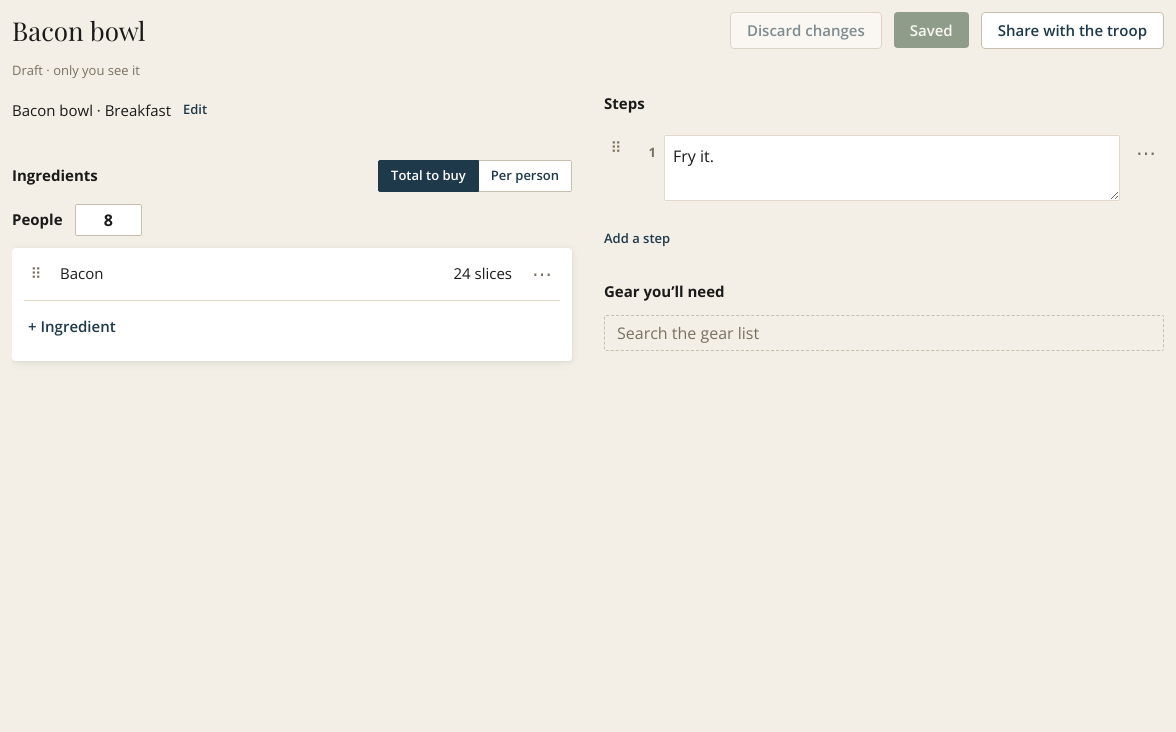
Scenario: RecipeEditor steps and ingredients › AddingAnIngredient_MakesTheRecipeDirty
Click the button "+ Ingredient": (72, 326) [24,304,120,348]
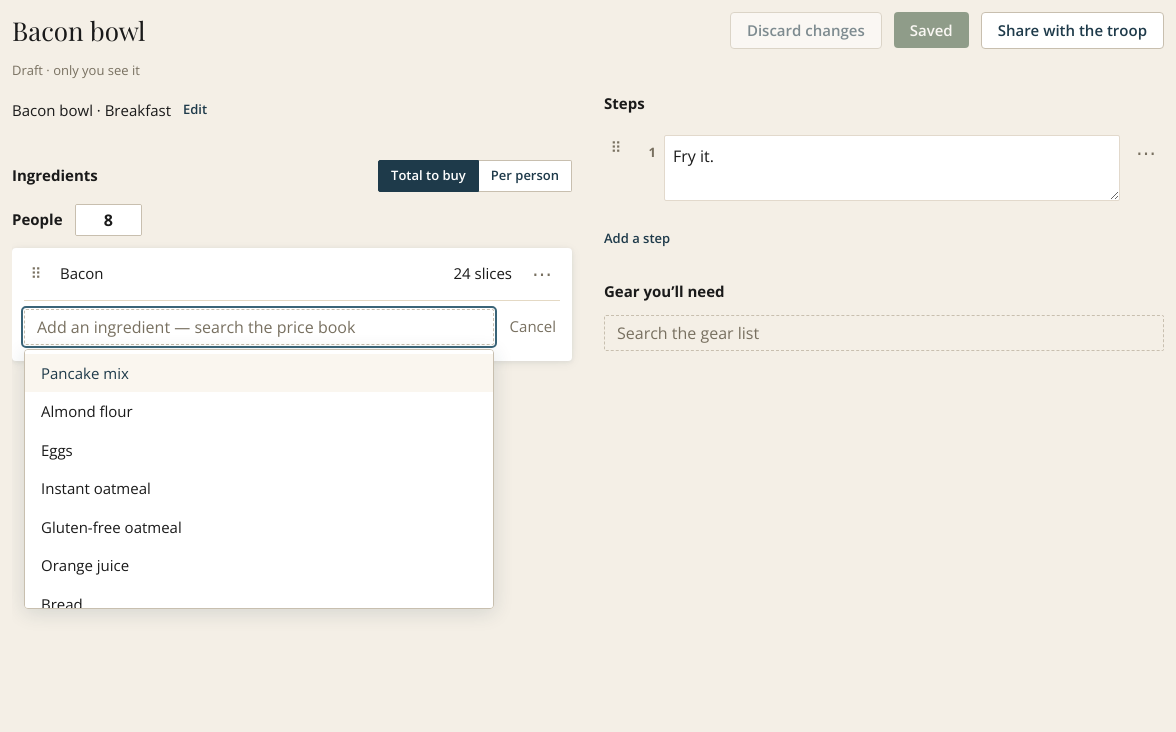
In the dropdown labelled "Add an ingredient": (259, 326) [24,308,494,344], type "egg"
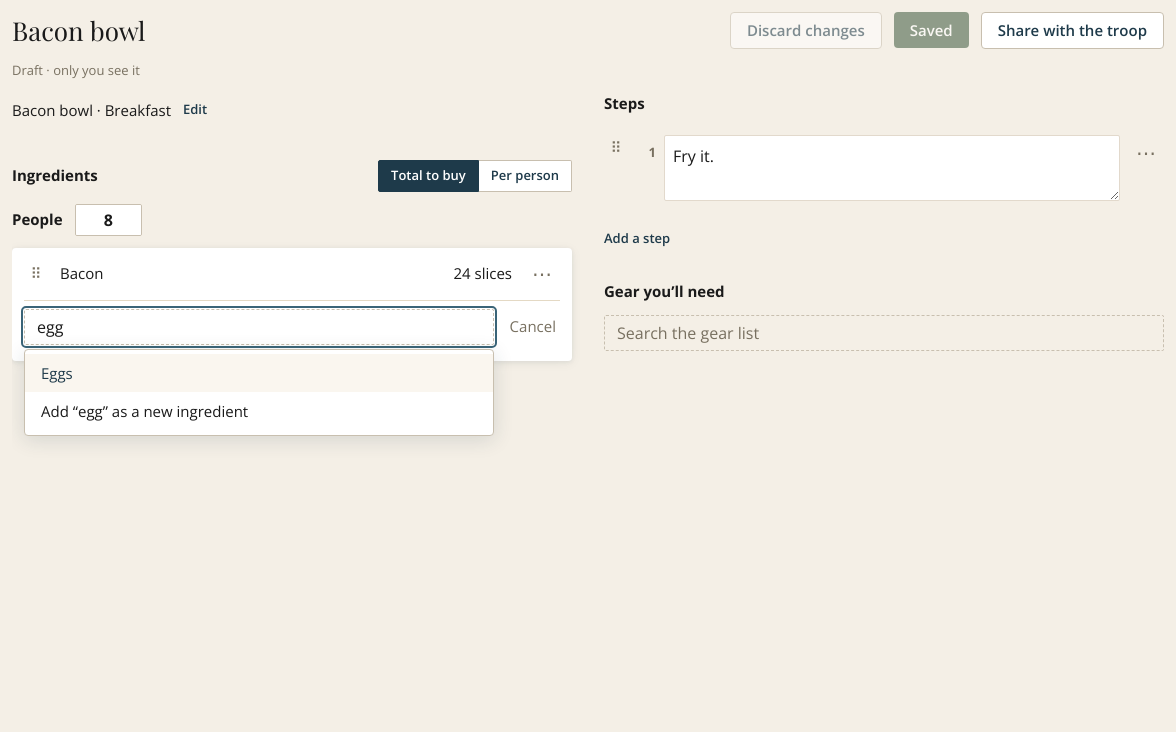
Click the option "Eggs": (57, 372) [25,354,493,392]
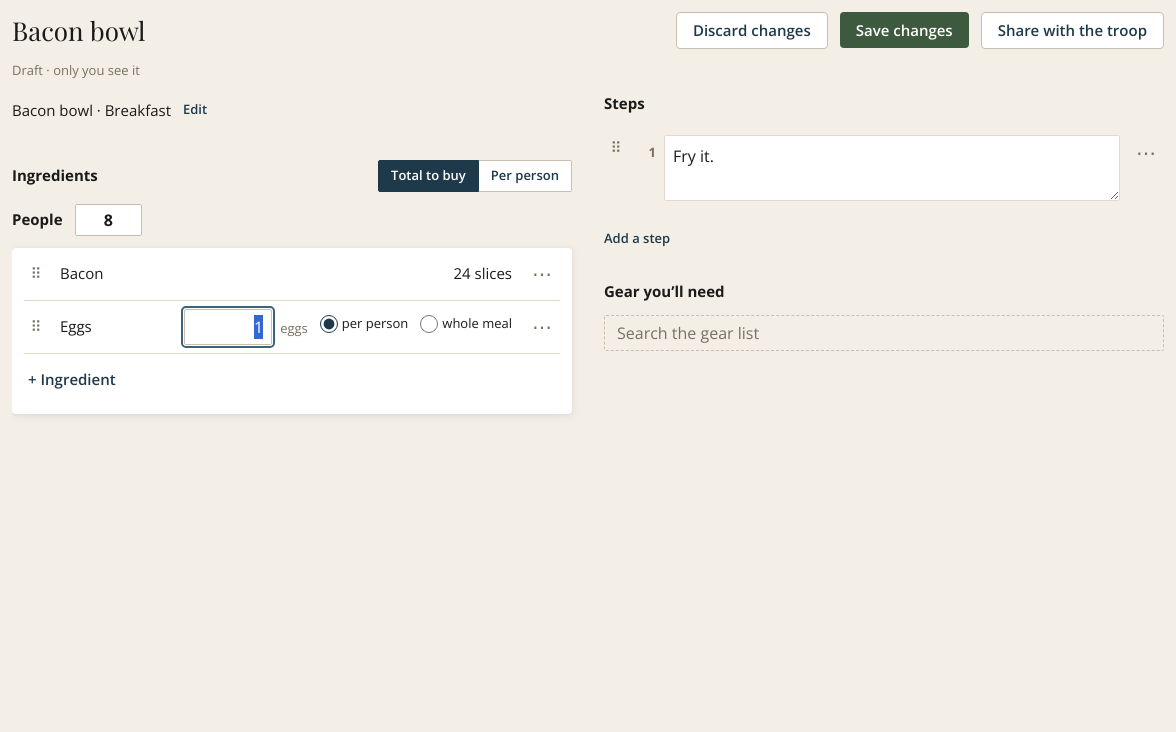
Expected: the button "Save changes" is shown, [840,12,969,48]
